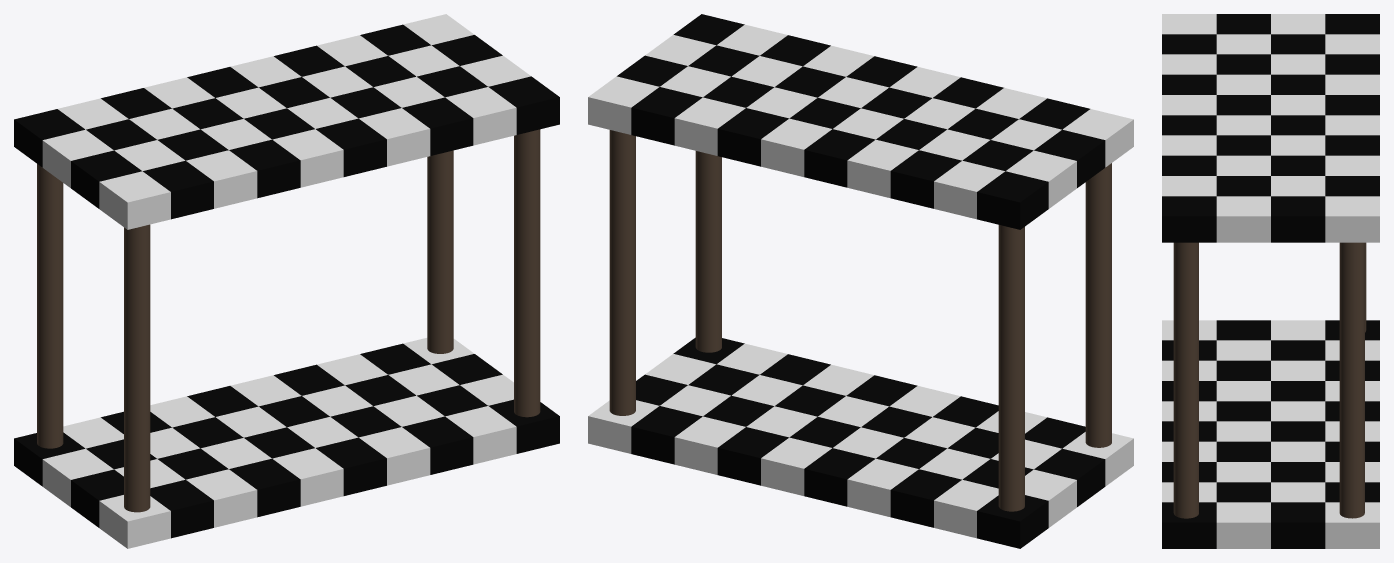
File: Finish Line Frame.fbx
3 renders of one model, left to right at view 1: azimuth 30°, elevation 25°; view 2: azimuth 150°, elevation 25°; view 3: azimuth 270°, elevation 25°, orthographic. The views are drawn at different scales.
Visible parts, largest first — view 1: pCube90, pCube89, pCylinder5, pCylinder4, pCylinder6, pCylinder3; view 2: pCube90, pCube89, pCylinder6, pCylinder3, pCylinder5, pCylinder4; view 3: pCube90, pCube89, pCylinder4, pCylinder3.
Part boxes in pixels (bbox=[...]): pCube90: bbox=[14, 14, 559, 229]; pCube89: bbox=[14, 338, 559, 548]; pCylinder5: bbox=[124, 224, 150, 512]; pCylinder4: bbox=[514, 129, 540, 417]; pCylinder6: bbox=[37, 164, 63, 448]; pCylinder3: bbox=[427, 150, 453, 353]; pCube90: bbox=[588, 14, 1133, 229]; pCube89: bbox=[588, 337, 1133, 548]; pCylinder6: bbox=[998, 225, 1024, 511]; pCylinder3: bbox=[609, 130, 635, 415]; pCylinder5: bbox=[1085, 163, 1111, 447]; pCylinder4: bbox=[695, 151, 721, 352]; pCube90: bbox=[1162, 14, 1379, 242]; pCube89: bbox=[1162, 320, 1379, 548]; pCylinder4: bbox=[1173, 242, 1198, 518]; pCylinder3: bbox=[1339, 242, 1364, 518].
Bounding box in the file's own units: 8.8 × 6.74 × 4.
